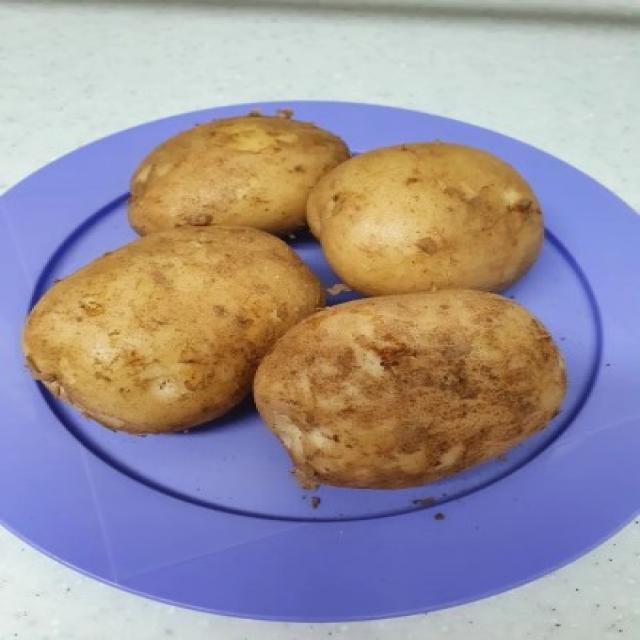potato: (248, 288, 572, 489), (26, 220, 314, 432), (304, 142, 546, 302), (123, 110, 353, 250)
